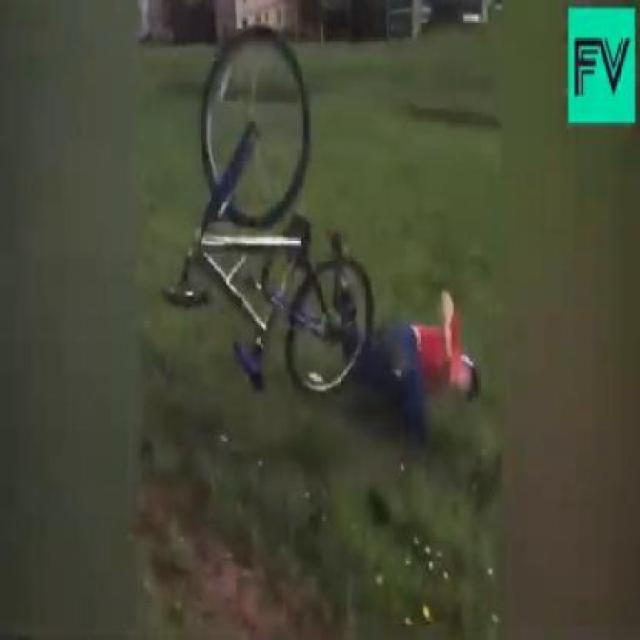fall: (361, 290, 481, 438)
